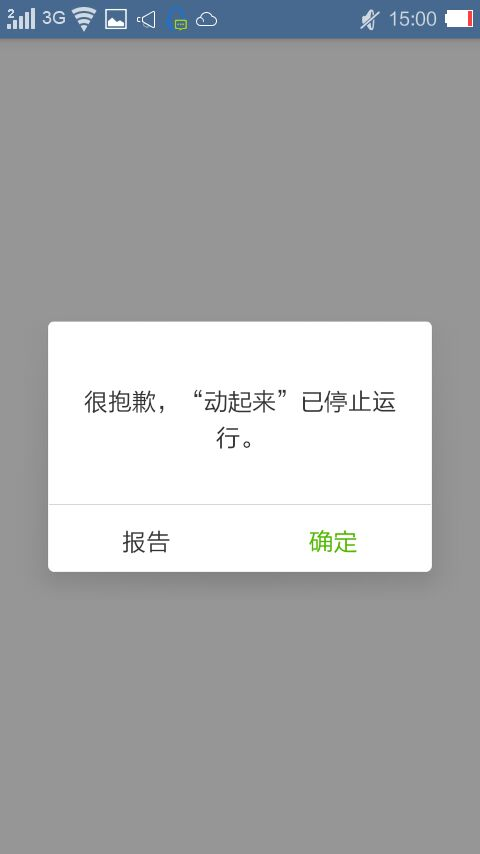alert: (39, 317, 435, 577)
textview: (76, 379, 401, 459)
